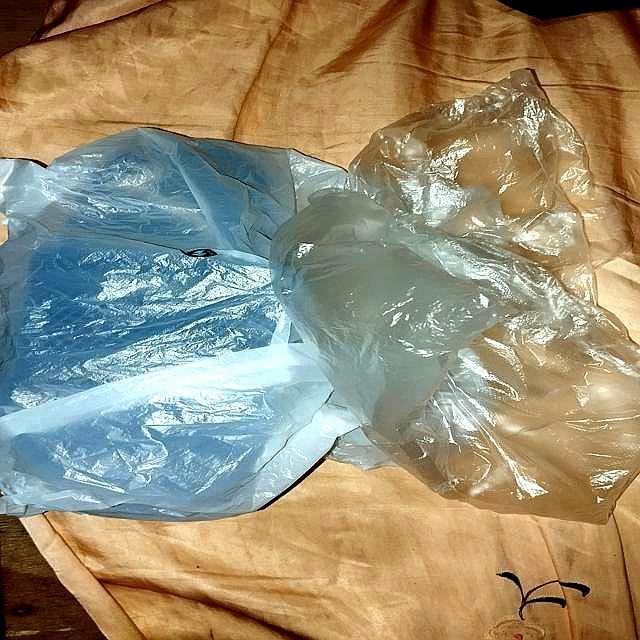Non-biodegradable: (1, 67, 640, 527)
